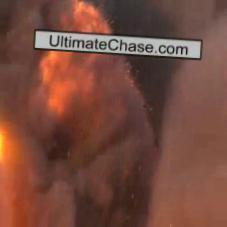fire: (35, 3, 116, 118)
